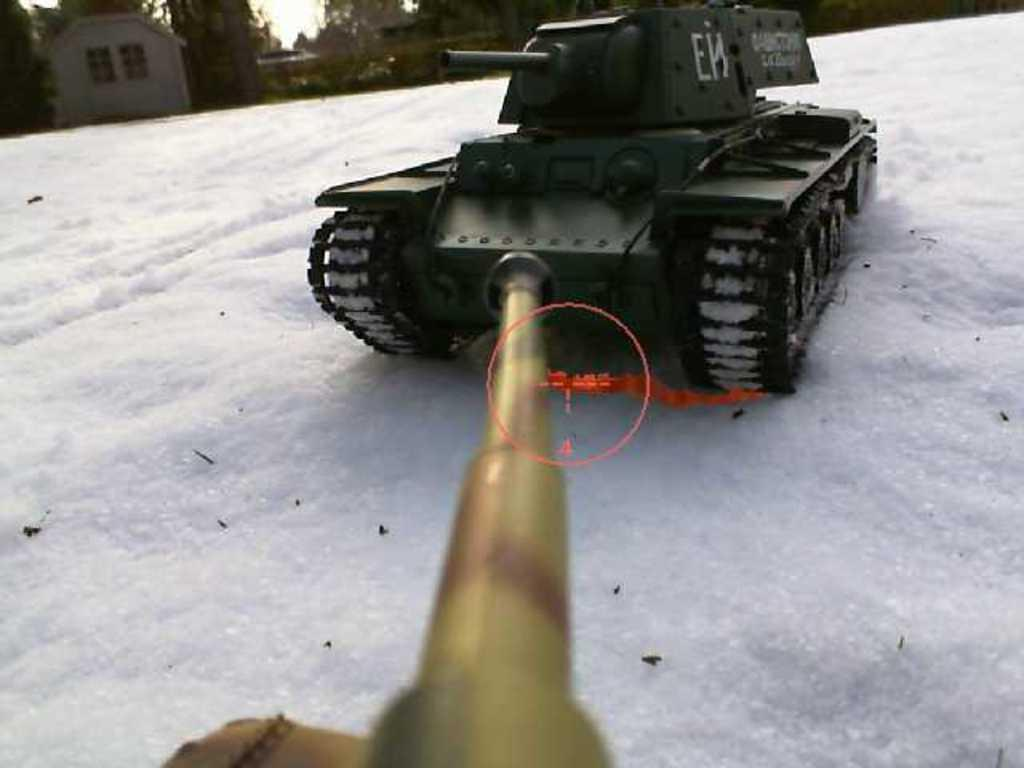Tank: (154, 250, 616, 766), (302, 0, 875, 394)
